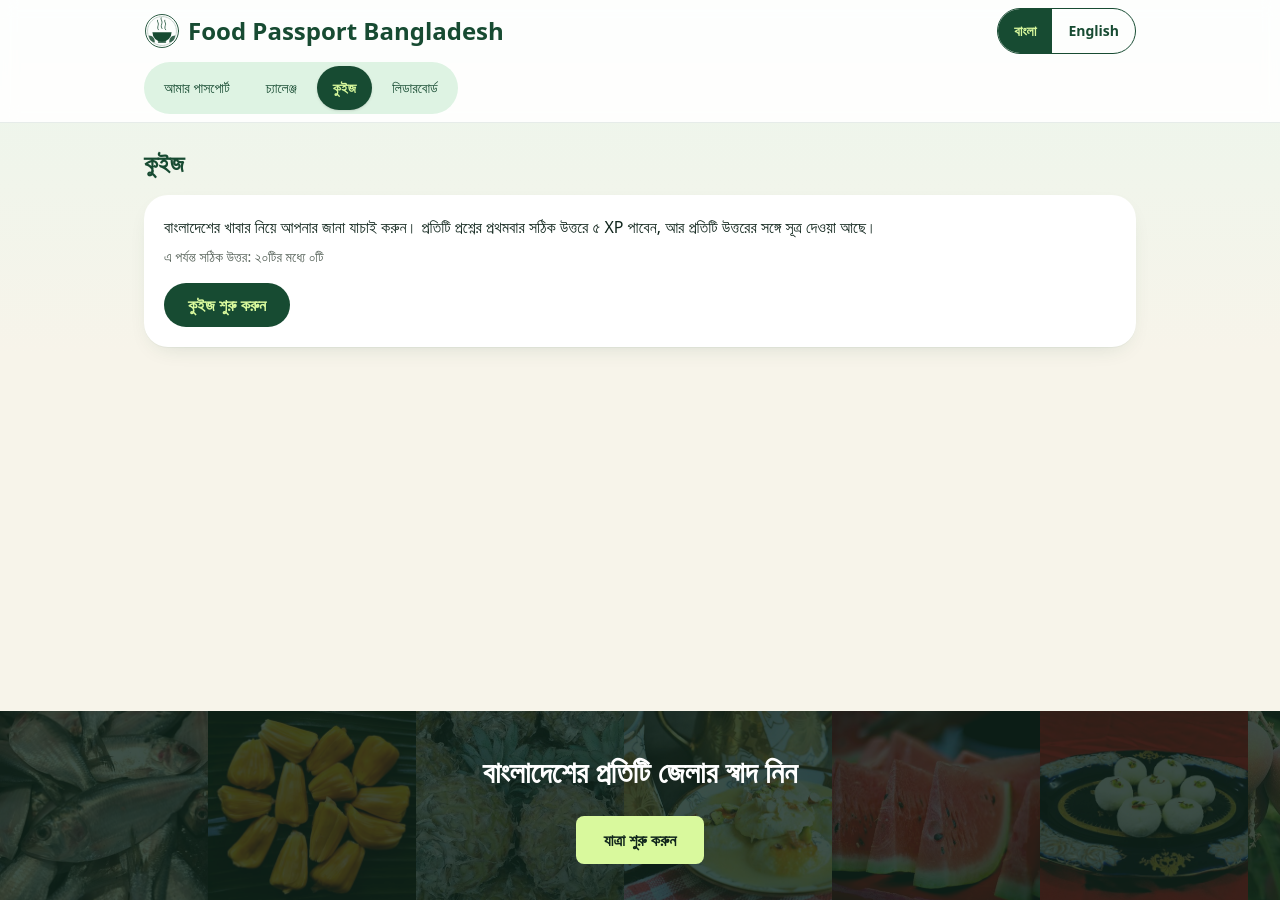
Test case: a right answer shows it, a source link and earns XP once
The image size is (1280, 900).
Expected: the heading "কুইজ" is shown, x1=144 y1=146 x2=184 y2=179
Click the button "কুইজ শুরু করুন": (227, 305) x1=164 y1=283 x2=290 y2=327
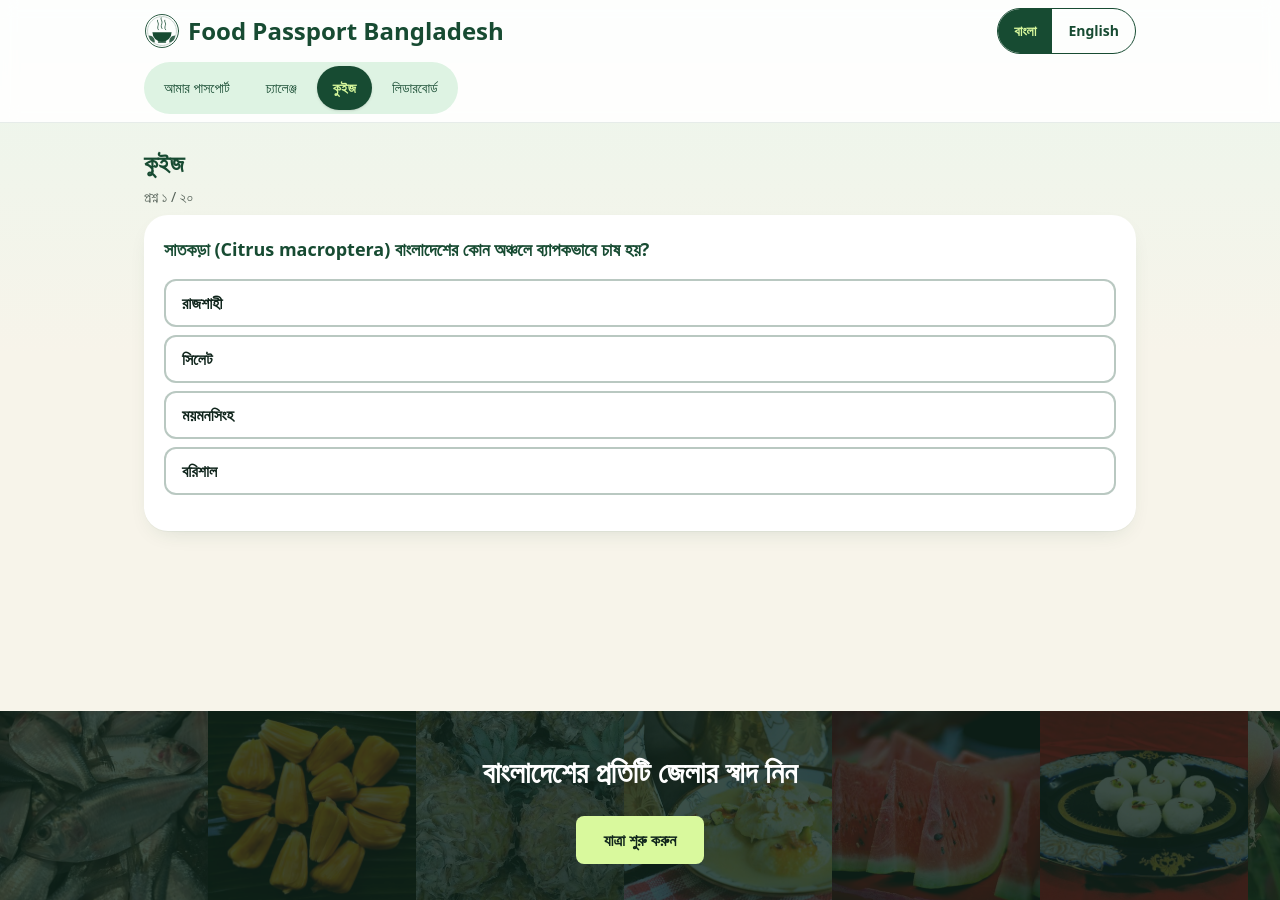
Click the button "সিলেট": (197, 359) x1=164 y1=335 x2=1116 y2=383
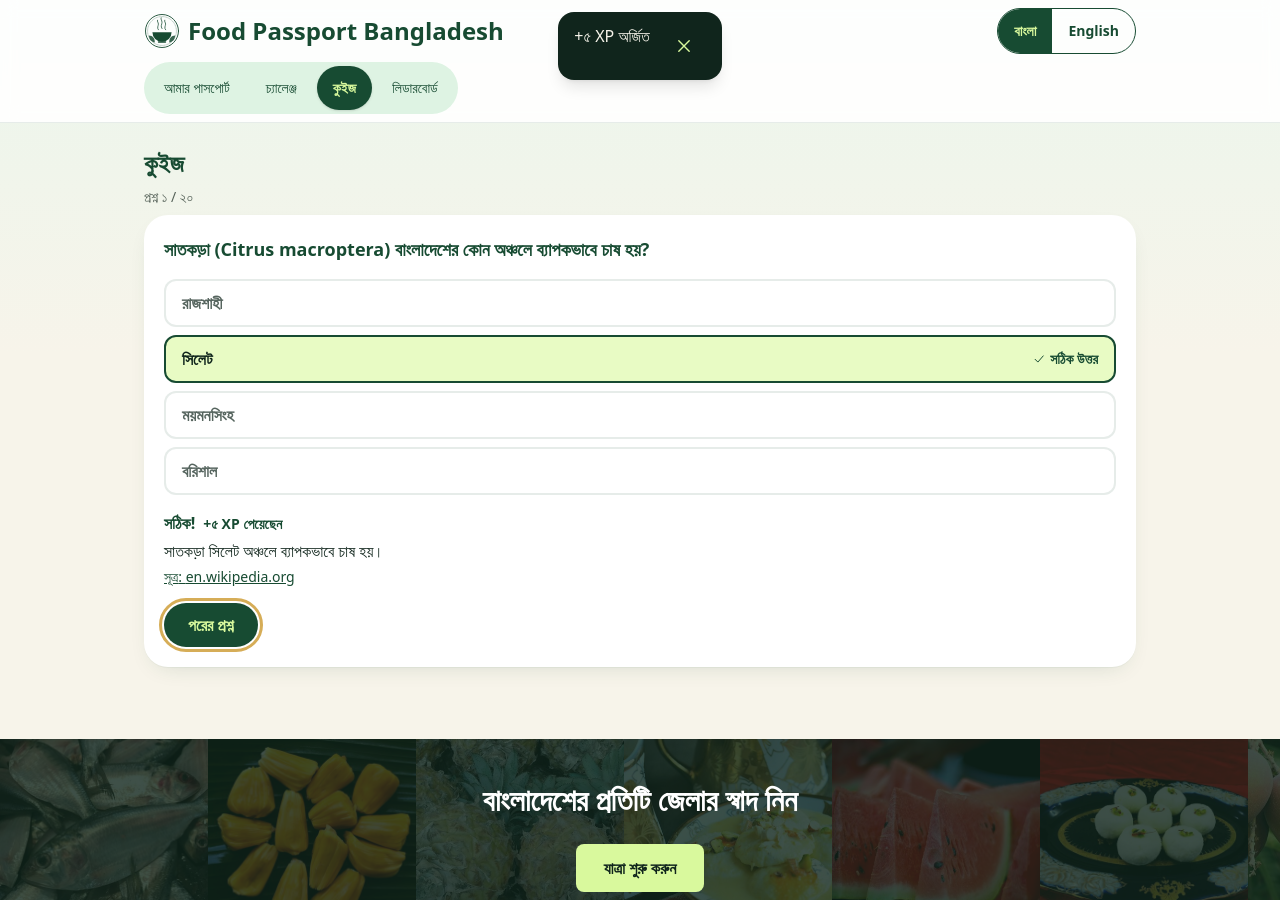
Result: the text "+৫ XP পেয়েছেন" is shown at x1=203 y1=514 x2=282 y2=533
